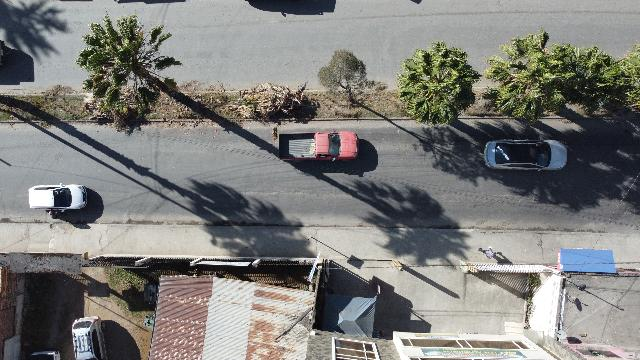Vehiculo: (484, 139, 568, 171), (279, 131, 359, 160), (28, 184, 88, 219), (72, 316, 106, 360)
